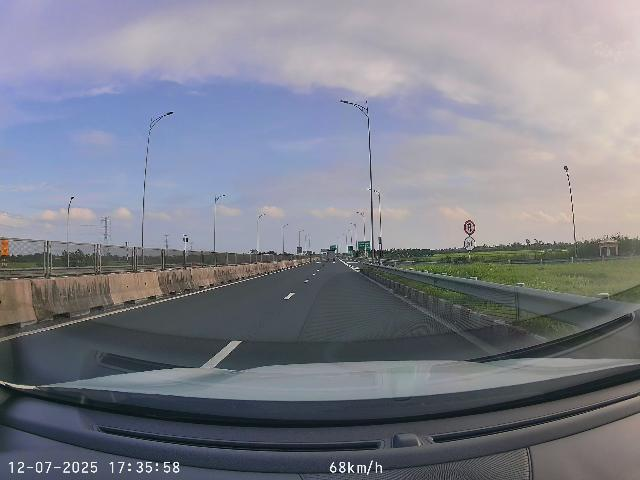124a-cam-quay-dau-xe: (464, 220, 476, 235)
134-het-han-che-toc-do-toi-da: (464, 236, 476, 251)
